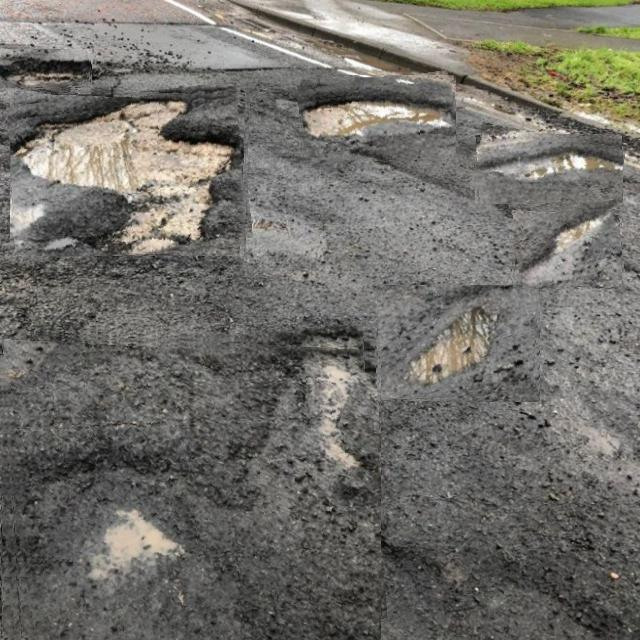Pothole: (0, 331, 381, 640), (10, 87, 250, 256), (378, 285, 540, 402), (299, 75, 456, 163), (473, 129, 623, 210), (509, 205, 622, 289), (0, 49, 92, 89)
